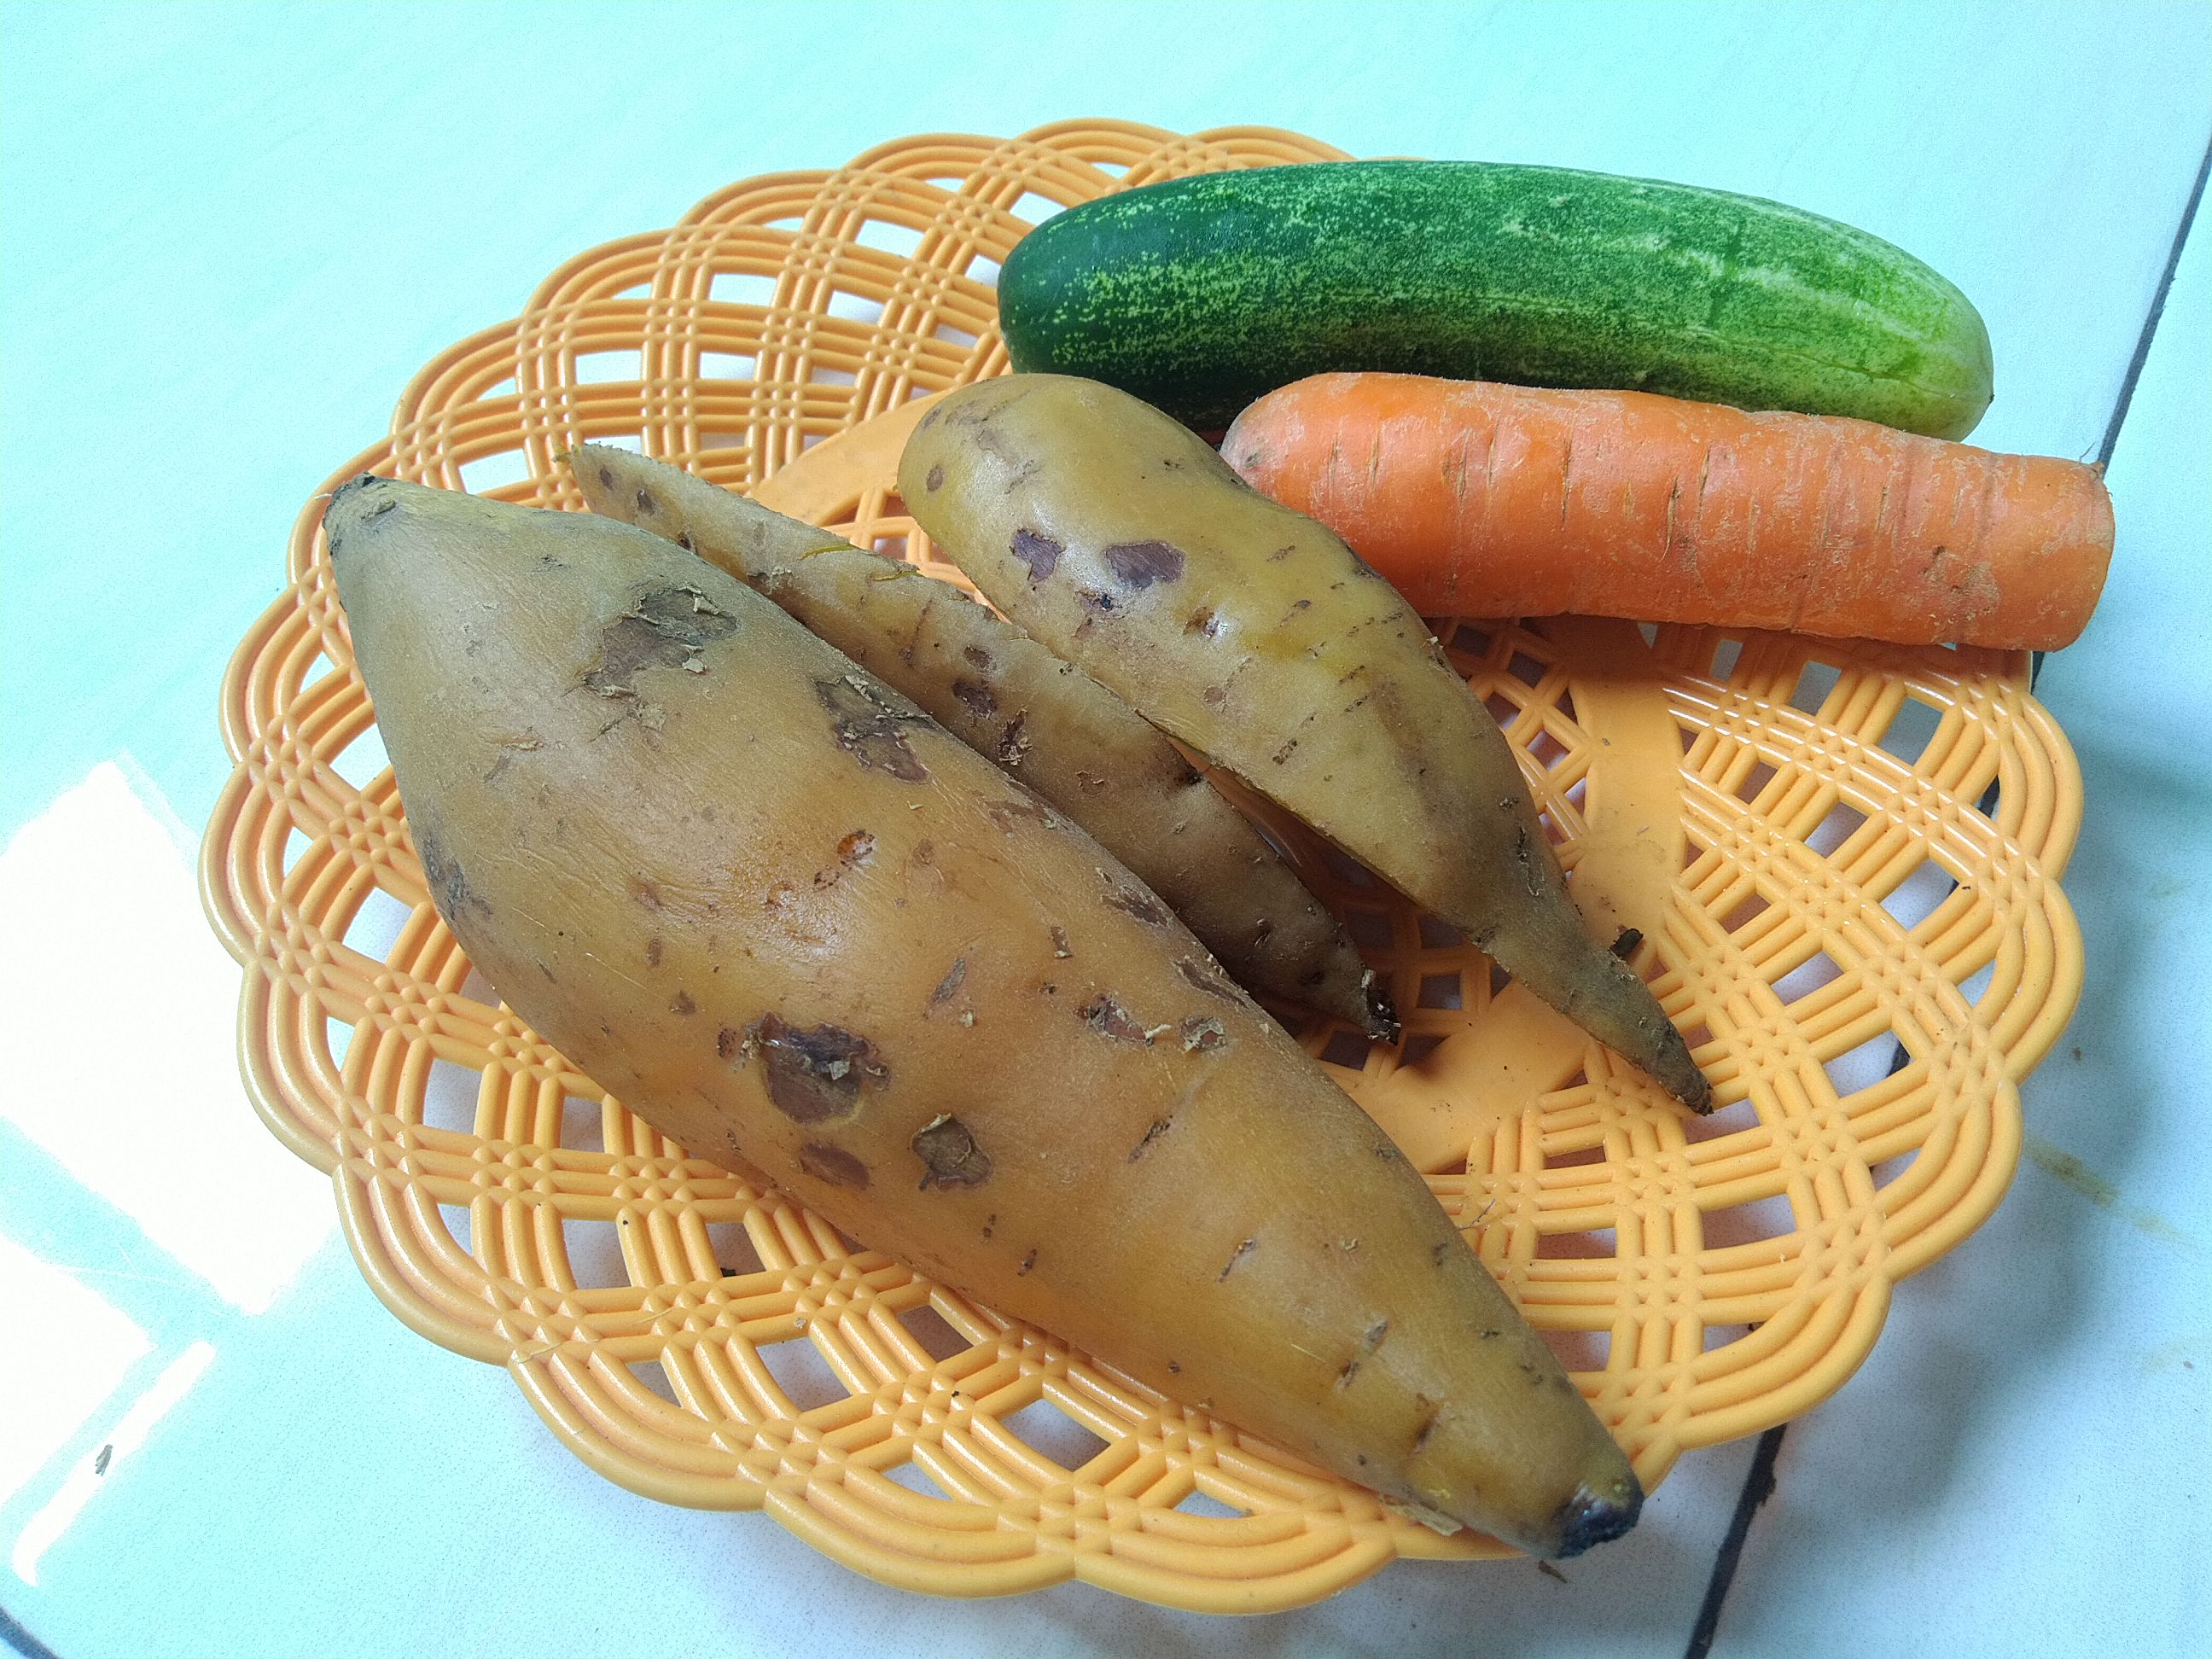ubi cilembu: (317, 486, 1667, 1581), (552, 444, 1397, 1075), (906, 437, 1585, 1077)
